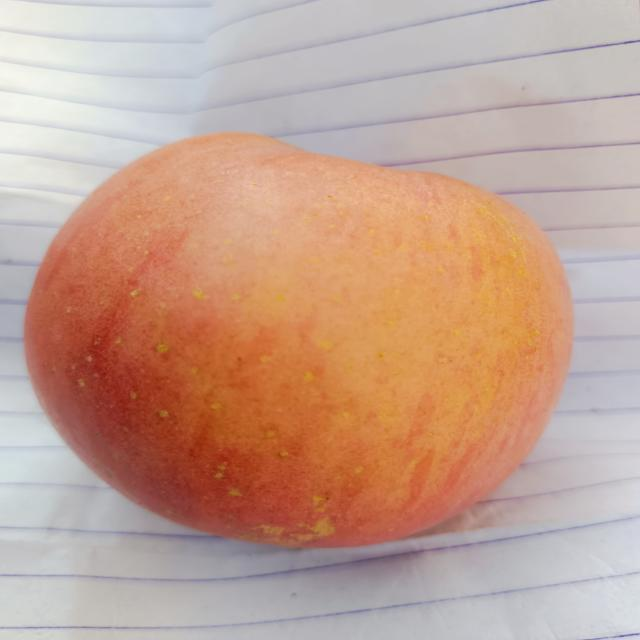Fresh Apple: (25, 126, 578, 554)
